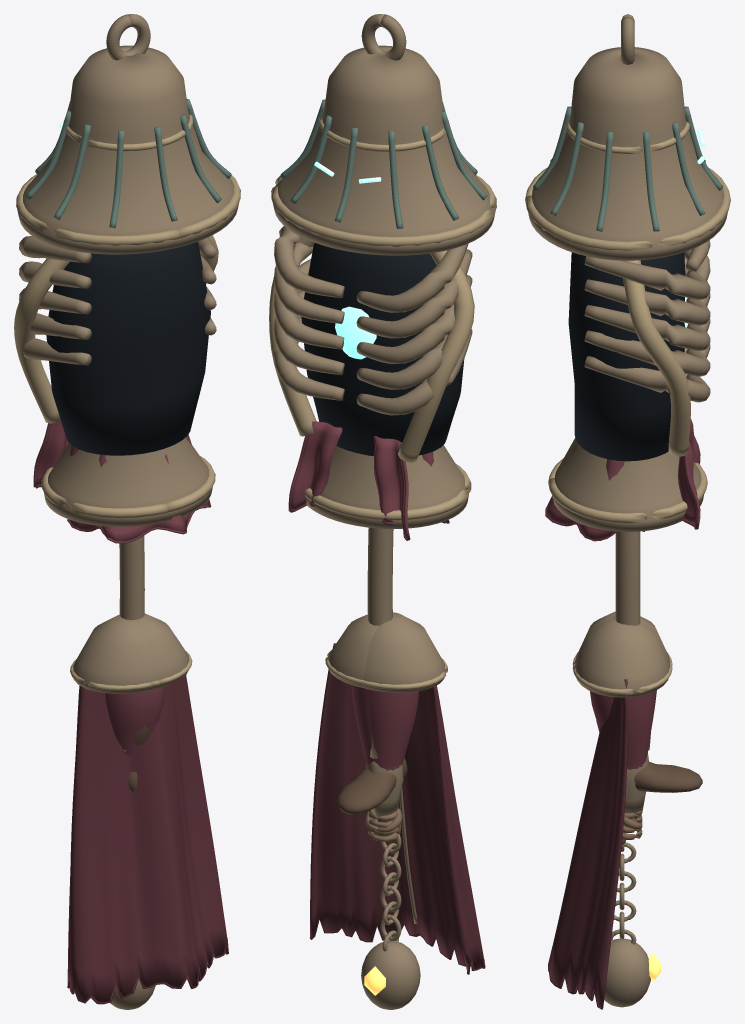
Rendered from guardian_0.glb.
3 renders of one model, left to right at view 1: azimuth 30°, elevation 25°; view 2: azimuth 150°, elevation 25°; view 3: azimuth 270°, elevation 25°, orthographic.
Visible parts, largest first — view 1: Cape__wine, Body__bronze, Body__dark, Weapon__bronze, Body__gold, ArmL__bronze, Body__patina, Body__wine, ArmR__bronze, Weapon__gold, LegL__wine, LegR__wine (+1 smaller); view 2: Body__bronze, Cape__wine, Body__dark, ArmL__bronze, Weapon__bronze, Body__gold, Body__wine, Body__patina, LegL__wine, ArmR__bronze, KneeL__leather, Weapon__gold (+5 smaller); view 3: Body__bronze, Cape__wine, Body__dark, Weapon__bronze, Body__gold, ArmR__bronze, ArmL__bronze, Body__patina, Body__wine, LegR__wine, Weapon__gold, KneeL__leather (+1 smaller).
Part boxes in pixels (x1=…): Cape__wine: x1=67, y1=675, x2=228, y2=1004; Body__bronze: x1=17, y1=14, x2=239, y2=365; Body__dark: x1=46, y1=241, x2=210, y2=455; Weapon__bronze: x1=44, y1=437, x2=212, y2=619; Body__gold: x1=14, y1=115, x2=240, y2=423; ArmL__bronze: x1=73, y1=614, x2=155, y2=1009; Body__patina: x1=25, y1=99, x2=231, y2=228; Body__wine: x1=33, y1=420, x2=211, y2=543; ArmR__bronze: x1=125, y1=613, x2=189, y2=688; Weapon__gold: x1=41, y1=456, x2=215, y2=518; LegL__wine: x1=105, y1=691, x2=147, y2=755; LegR__wine: x1=144, y1=686, x2=165, y2=734; Body__bronze: x1=273, y1=14, x2=495, y2=415; Cape__wine: x1=310, y1=643, x2=485, y2=974; Body__dark: x1=301, y1=243, x2=464, y2=456; ArmL__bronze: x1=361, y1=612, x2=445, y2=1009; Weapon__bronze: x1=306, y1=445, x2=469, y2=625; Body__gold: x1=269, y1=116, x2=496, y2=462; Body__wine: x1=288, y1=421, x2=449, y2=540; Body__patina: x1=280, y1=99, x2=487, y2=229; LegL__wine: x1=365, y1=689, x2=418, y2=767; ArmR__bronze: x1=328, y1=613, x2=393, y2=687; KneeL__leather: x1=336, y1=746, x2=407, y2=814; Weapon__gold: x1=304, y1=464, x2=471, y2=520; Body__bronze: x1=528, y1=14, x2=727, y2=402; Cape__wine: x1=548, y1=679, x2=627, y2=1009; Body__dark: x1=568, y1=252, x2=685, y2=461; Weapon__bronze: x1=552, y1=438, x2=703, y2=625; Body__gold: x1=525, y1=122, x2=730, y2=456; ArmR__bronze: x1=575, y1=616, x2=670, y2=697; ArmL__bronze: x1=575, y1=611, x2=670, y2=1007; Body__patina: x1=533, y1=106, x2=722, y2=231; Body__wine: x1=545, y1=418, x2=700, y2=541; LegR__wine: x1=590, y1=690, x2=656, y2=766; Weapon__gold: x1=548, y1=458, x2=707, y2=523; KneeL__leather: x1=596, y1=720, x2=702, y2=792.
Bounding box in the file's own units: 0.7808 × 3.68 × 0.6933.
